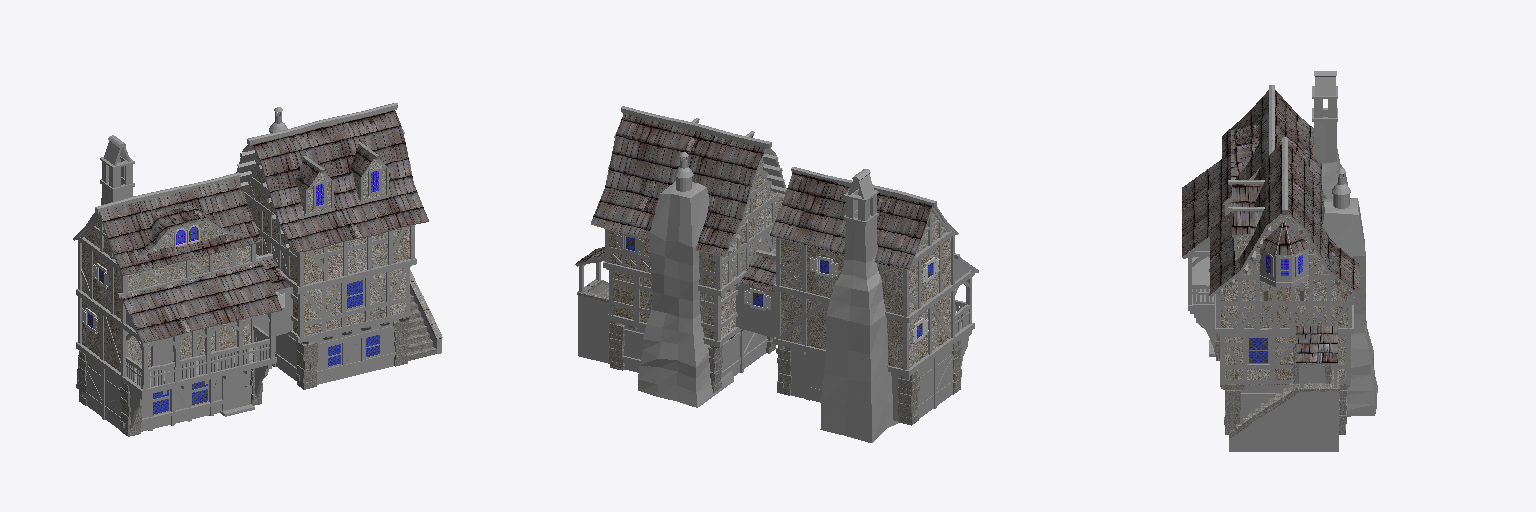
3 renders of one model, left to right at view 1: azimuth 30°, elevation 25°; view 2: azimuth 150°, elevation 25°; view 3: azimuth 270°, elevation 25°, orthographic.
Parts seen in each view (by area): view 1: Roof_Cube.372, WoodRight_Cube.307, WoodLeft_Cube.178, BalconyWood_Cube.162, RightLevel3_Cube.019, LeftLevel3_Cube.115, RightLevel2_Cube.017, LeftLevel2_Cube.111, LeftLevel1_Cube.044, RightLevel1_Cube, StoneRight_Cube.077, ChimneyLeft_Cube.181 (+8 smaller); view 2: Roof_Cube.372, ChimneyLeft_Cube.181, ChimneyRight_Cube.180, WoodLeft_Cube.178, WoodRight_Cube.307, LeftLevel3_Cube.115, LeftLevel2_Cube.111, LeftLevel1_Cube.044, RightLevel3_Cube.019, RightLevel2_Cube.017, StairsSides_Cube.036, StoneLeft_Cube.173 (+7 smaller); view 3: Roof_Cube.372, WoodRight_Cube.307, StairsSides_Cube.036, ChimneyRight_Cube.180, RightLevel3_Cube.019, ChimneyLeft_Cube.181, RightLevel2_Cube.017, WoodLeft_Cube.178, StoneRight_Cube.077, RoofRightFrameHolders_Cube.002, RightLevel1_Cube, StoneStair_Cube.366 (+3 smaller).
Part boxes in pixels (x1,y1,x2,y2): Roof_Cube.372: (100, 110, 428, 341); WoodRight_Cube.307: (244, 159, 416, 375); WoodLeft_Cube.178: (76, 214, 276, 430); BalconyWood_Cube.162: (126, 312, 274, 389); RightLevel3_Cube.019: (243, 155, 409, 284); LeftLevel3_Cube.115: (82, 218, 250, 318); RightLevel2_Cube.017: (293, 268, 405, 335); LeftLevel2_Cube.111: (82, 299, 250, 371); LeftLevel1_Cube.044: (83, 355, 251, 431); RightLevel1_Cube: (276, 319, 398, 384); StoneRight_Cube.077: (286, 317, 408, 389); ChimneyLeft_Cube.181: (76, 140, 134, 388); Roof_Cube.372: (576, 113, 931, 291); ChimneyLeft_Cube.181: (820, 173, 898, 442); ChimneyRight_Cube.180: (638, 181, 733, 407); WoodLeft_Cube.178: (773, 208, 974, 412); WoodRight_Cube.307: (579, 168, 778, 377); LeftLevel3_Cube.115: (781, 212, 950, 315); LeftLevel2_Cube.111: (781, 293, 950, 368); LeftLevel1_Cube.044: (790, 344, 952, 421); RightLevel3_Cube.019: (609, 159, 782, 287); RightLevel2_Cube.017: (613, 270, 735, 338); StairsSides_Cube.036: (578, 283, 609, 363); StoneLeft_Cube.173: (776, 339, 961, 425); Roof_Cube.372: (1182, 90, 1359, 363); WoodRight_Cube.307: (1215, 215, 1353, 397); StairsSides_Cube.036: (1229, 387, 1338, 451); ChimneyRight_Cube.180: (1322, 198, 1377, 416); RightLevel3_Cube.019: (1221, 215, 1347, 327); ChimneyLeft_Cube.181: (1312, 76, 1350, 198); RightLevel2_Cube.017: (1225, 337, 1345, 384); WoodLeft_Cube.178: (1187, 176, 1255, 349); StoneRight_Cube.077: (1220, 385, 1349, 434); RoofRightFrameHolders_Cube.002: (1218, 137, 1351, 294); RightLevel1_Cube: (1240, 385, 1339, 423); StoneStair_Cube.366: (1229, 371, 1339, 438).
Bounding box in the file's own units: 16.5 × 12.27 × 8.54.
Materials: 21 (5 with a texture image).